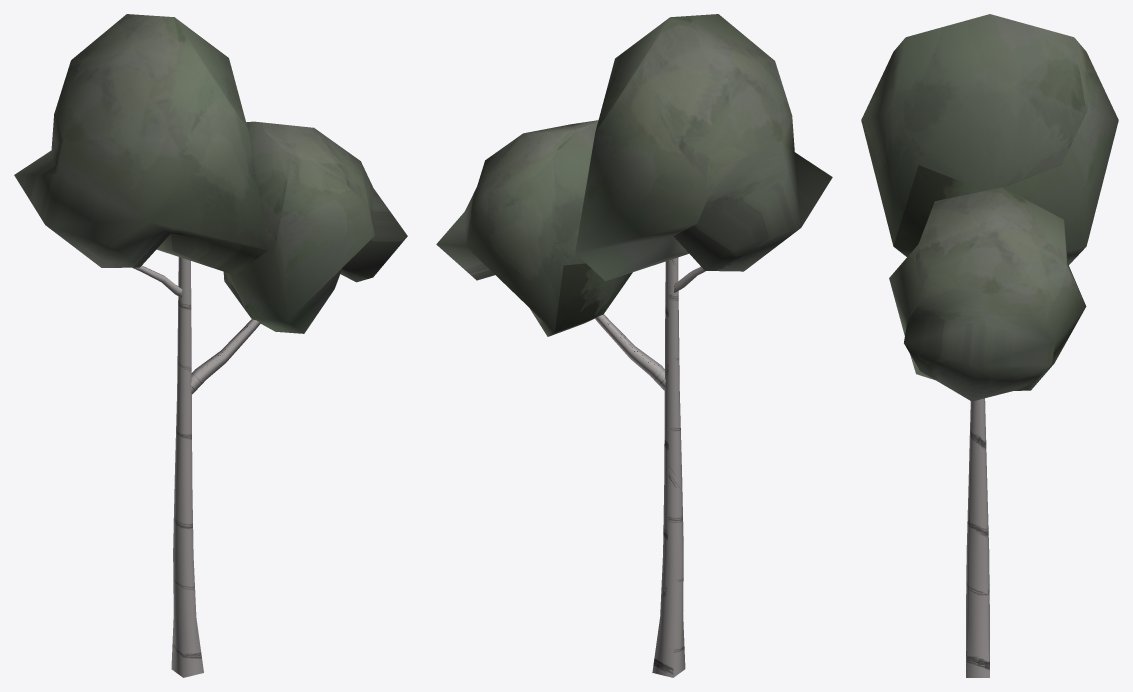
The model's file is BirchTree.fbx.
3 renders of one model, left to right at view 1: azimuth 30°, elevation 25°; view 2: azimuth 150°, elevation 25°; view 3: azimuth 270°, elevation 25°, orthographic.
Parts seen in each view (by area): view 1: BirchTree; view 2: BirchTree; view 3: BirchTree.
Boxes of the visible parts, x1,y1,x2,y2 form: BirchTree: [14, 14, 407, 677]; BirchTree: [436, 14, 832, 677]; BirchTree: [861, 14, 1118, 677].
Bounding box in the file's own units: 5.11 × 9.37 × 3.34.
2 materials, 2 textured.
